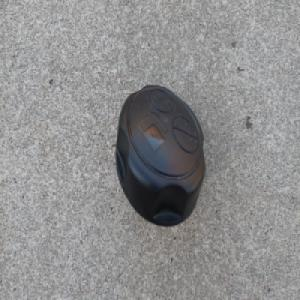FuelCap: (114, 83, 206, 229)
